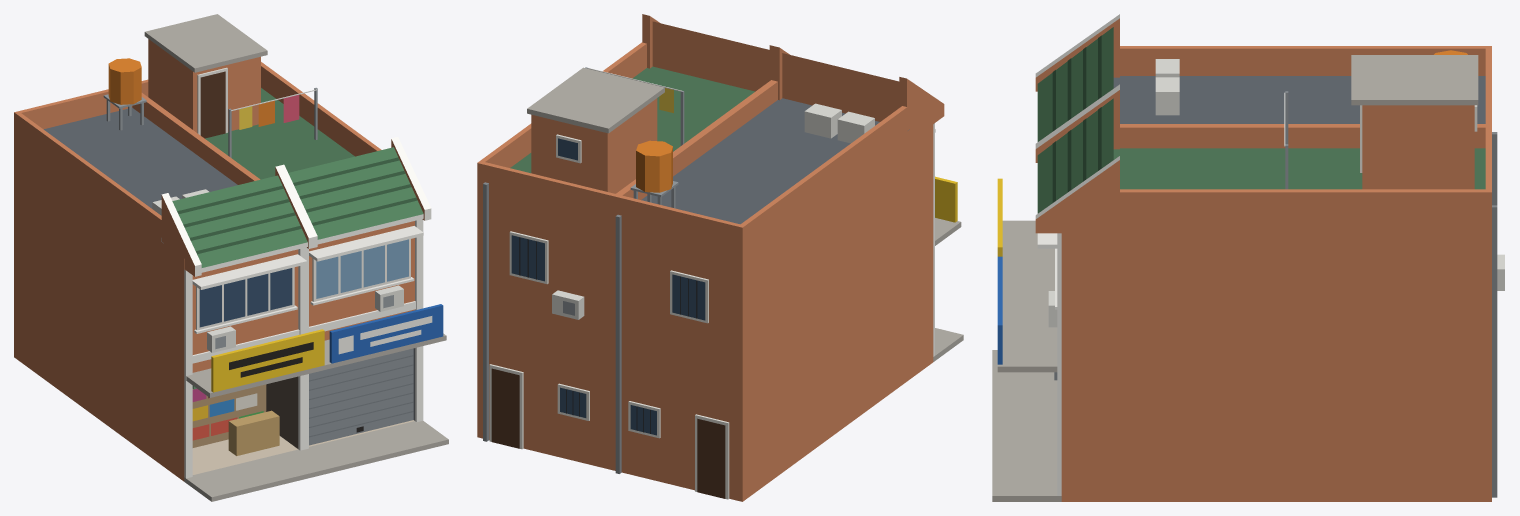
File: ruko_00.glb
3 views of the same model, side by side, from view 1: azimuth 30°, elevation 25°; view 2: azimuth 150°, elevation 25°; view 3: azimuth 270°, elevation 25° (orthographic). The views are drawn at different scales.
Parts seen in each view (by area): view 1: ruko_00; view 2: ruko_00; view 3: ruko_00.
Part boxes in pixels (x1,y1,x2,y2): ruko_00: [14, 14, 448, 501]; ruko_00: [477, 14, 963, 501]; ruko_00: [992, 14, 1504, 501].
Bounding box in the file's own units: 8 × 9.64 × 11.86.
